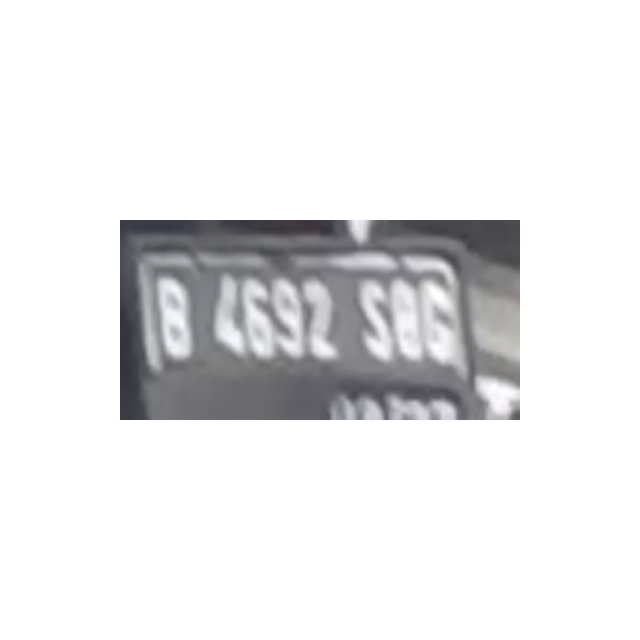contain: (354, 263, 395, 367), (302, 263, 342, 367), (422, 267, 461, 370), (157, 270, 200, 363), (238, 261, 275, 362), (390, 264, 425, 367), (272, 263, 304, 366), (210, 269, 243, 366)
